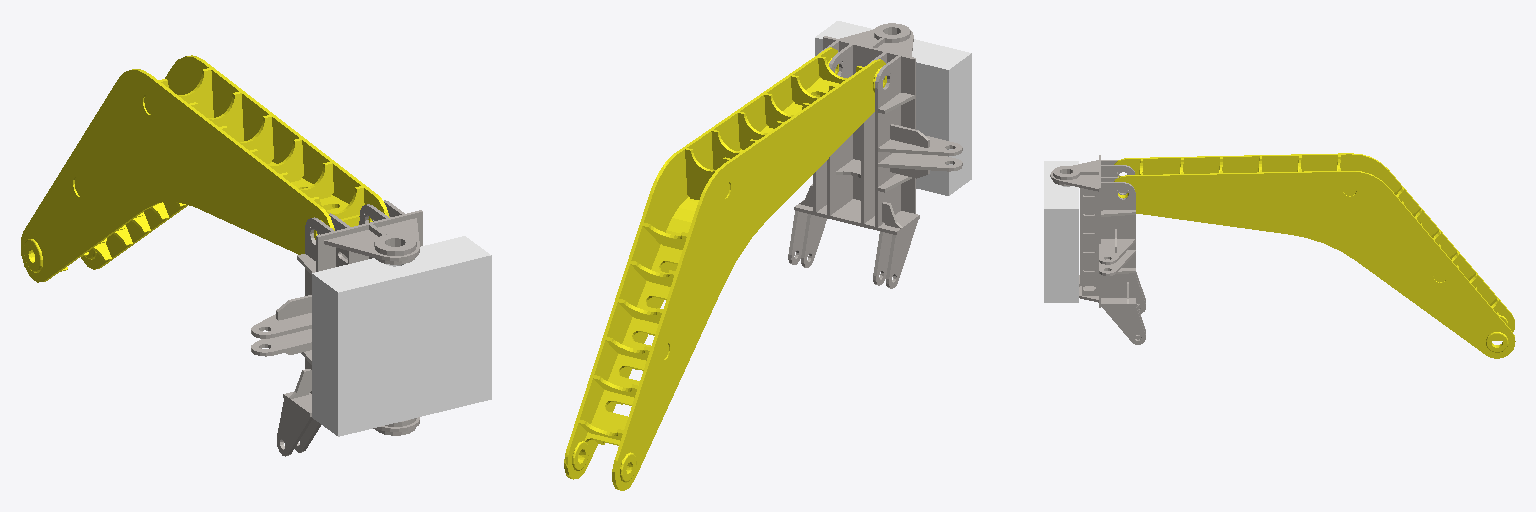
URDF robot description (cutting_arm):
<?xml version="1.0" encoding="utf-8"?>
<!-- This URDF was automatically created by SolidWorks to URDF Exporter! Originally created by [author] ([email redacted]) 
     Commit Version: 1.6.0-1-g15f4949  Build Version: 1.6.7594.29634
     For more information, please see http://wiki.ros.org/sw_urdf_exporter -->
<robot
  name="cutting_arm">
  <link
    name="base_link">
    <inertial>
      <origin
        xyz="0.017002 -0.043774 -0.45"
        rpy="0 0 0" />
      <mass
        value="259.82" />
      <inertia
        ixx="19.535"
        ixy="-0.0072902"
        ixz="2.3701E-16"
        iyy="40.026"
        iyz="-4.2719E-16"
        izz="24.485" />
    </inertial>
    <visual>
      <origin
        xyz="0 0 0"
        rpy="0 0 0" />
      <geometry>
        <mesh
          filename="package://cutting_arm/meshes/base_link.STL" />
      </geometry>
      <material
        name="">
        <color
          rgba="1 1 1 1" />
      </material>
    </visual>
    <collision>
      <origin
        xyz="0 0 0"
        rpy="0 0 0" />
      <geometry>
        <mesh
          filename="package://cutting_arm/meshes/base_link.STL" />
      </geometry>
    </collision>
  </link>
  <link
    name="horizental_Link">
    <inertial>
      <origin
        xyz="1.3537E-10 0.35616 -0.65643"
        rpy="0 0 0" />
      <mass
        value="100.2" />
      <inertia
        ixx="16.549"
        ixy="-1.4488E-09"
        ixz="-2.7106E-10"
        iyy="20.039"
        iyz="1.2708"
        izz="8.2437" />
    </inertial>
    <visual>
      <origin
        xyz="0 0 0"
        rpy="0 0 0" />
      <geometry>
        <mesh
          filename="package://cutting_arm/meshes/horizental_Link.STL" />
      </geometry>
      <material
        name="">
        <color
          rgba="0.77647 0.75686 0.73725 1" />
      </material>
    </visual>
    <collision>
      <origin
        xyz="0 0 0"
        rpy="0 0 0" />
      <geometry>
        <mesh
          filename="package://cutting_arm/meshes/horizental_Link.STL" />
      </geometry>
    </collision>
  </link>
  <joint
    name="horizental_joint"
    type="revolute">
    <origin
      xyz="0 0 0.12226"
      rpy="0 0 0" />
    <parent
      link="base_link" />
    <child
      link="horizental_Link" />
    <axis
      xyz="0 0 -1" />
    <limit
      lower="-0.52"
      upper="0.52"
      effort="0"
      velocity="0" />
  </joint>
  <link
    name="vertical_Link">
    <inertial>
      <origin
        xyz="0.41015 -1.8201 0.00013672"
        rpy="0 0 0" />
      <mass
        value="161.1" />
      <inertia
        ixx="133.12"
        ixy="51.313"
        ixz="-0.0037951"
        iyy="35.318"
        iyz="-0.011439"
        izz="160.75" />
    </inertial>
    <visual>
      <origin
        xyz="0 0 0"
        rpy="0 0 0" />
      <geometry>
        <mesh
          filename="package://cutting_arm/meshes/vertical_Link.STL" />
      </geometry>
      <material
        name="">
        <color
          rgba="1 0.97255 0.17647 1" />
      </material>
    </visual>
    <collision>
      <origin
        xyz="0 0 0"
        rpy="0 0 0" />
      <geometry>
        <mesh
          filename="package://cutting_arm/meshes/vertical_Link.STL" />
      </geometry>
    </collision>
  </link>
  <joint
    name="vertical_joint"
    type="revolute">
    <origin
      xyz="0 0.494 -0.11"
      rpy="3.1416 1.5708 0" />
    <parent
      link="horizental_Link" />
    <child
      link="vertical_Link" />
    <axis
      xyz="0 0 -1" />
    <limit
      lower="-0.14"
      upper="0.3"
      effort="0"
      velocity="0" />
  </joint>
  <link
    name="cutting_head">
    <inertial>
      <origin
        xyz="0.40079 0.39431 0.00021102"
        rpy="0 0 0" />
      <mass
        value="74.674" />
      <inertia
        ixx="22.345"
        ixy="-6.1015"
        ixz="0.0037558"
        iyy="6.8057"
        iyz="0.019772"
        izz="21.546" />
    </inertial>
    <visual>
      <origin
        xyz="0 0 0"
        rpy="0 0 0" />
      <geometry>
        <mesh
          filename="package://cutting_arm/meshes/cutting_head.STL" />
      </geometry>
      <material
        name="">
        <color
          rgba="0.64706 0.61961 0.58824 1" />
      </material>
    </visual>
    <collision>
      <origin
        xyz="0 0 0"
        rpy="0 0 0" />
      <geometry>
        <mesh
          filename="package://cutting_arm/meshes/cutting_head.STL" />
      </geometry>
    </collision>
  </link>
  <joint
    name="cutting_head_joint"
    type="revolute">
    <origin
      xyz="1.4422 -3.2584 0"
      rpy="0 0 0" />
    <parent
      link="vertical_Link" />
    <child
      link="cutting_head" />
    <axis
      xyz="0 0 -1" />
    <limit
      lower="-0.38"
      upper="0"
      effort="0"
      velocity="0" />
  </joint>
</robot>

--- What the picture shows (computed from the rendered views, not written in the file) ---
The picture shows the robot from 3 angles, left to right: view 1: azimuth 30°, elevation 25°; view 2: azimuth 150°, elevation 25°; view 3: azimuth 270°, elevation 25°; orthographic projection.
Model cutting_arm with 4 links and 3 joints (3 revolute), rooted at base_link, posed every joint at zero.
Links seen in each view (by area): view 1: vertical_Link, base_link, horizental_Link; view 2: vertical_Link, horizental_Link, base_link; view 3: vertical_Link, horizental_Link, base_link.
Link boxes in pixels (<box>): vertical_Link: <box>21,55,389,282</box>; base_link: <box>312,236,491,436</box>; horizental_Link: <box>251,200,422,456</box>; vertical_Link: <box>564,47,886,490</box>; horizental_Link: <box>788,23,962,288</box>; base_link: <box>815,21,971,195</box>; vertical_Link: <box>1114,153,1515,358</box>; horizental_Link: <box>1050,155,1145,344</box>; base_link: <box>1044,161,1078,302</box>.
Bounding box of the posed robot: 1.44 × 4.1 × 1.8 m (x, y, z).
Meshes: 4 distinct files referenced, 3 mesh visuals loaded (3 binary STL); not drawn: 1 (reference not matched to a file when rendering).